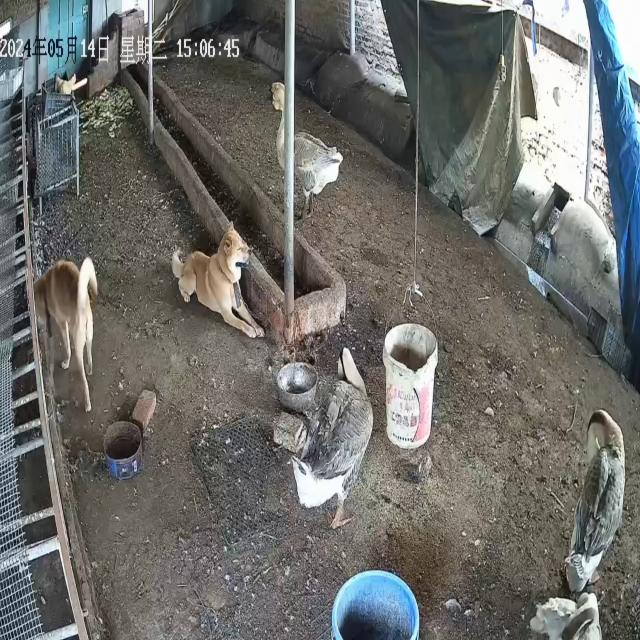dog: (172, 222, 266, 341), (34, 256, 100, 414)
